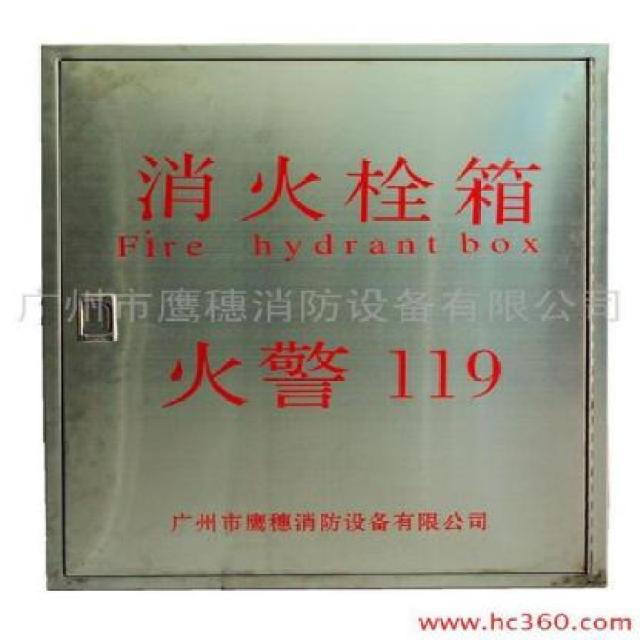firehydrant: (34, 38, 616, 596)
